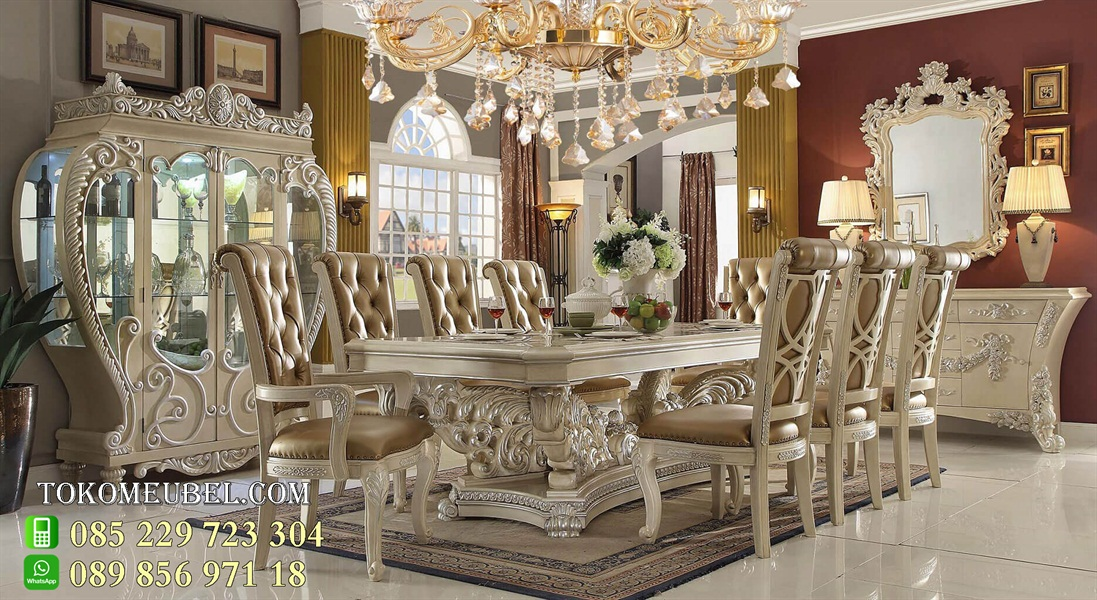Carving Chair: (653, 239, 975, 535), (212, 236, 433, 582)
